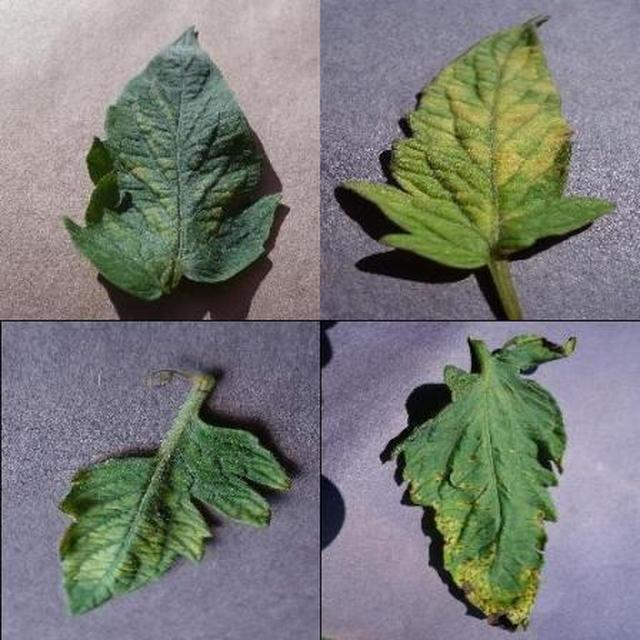Spider Mites Leaf: (245, 205, 640, 640)
